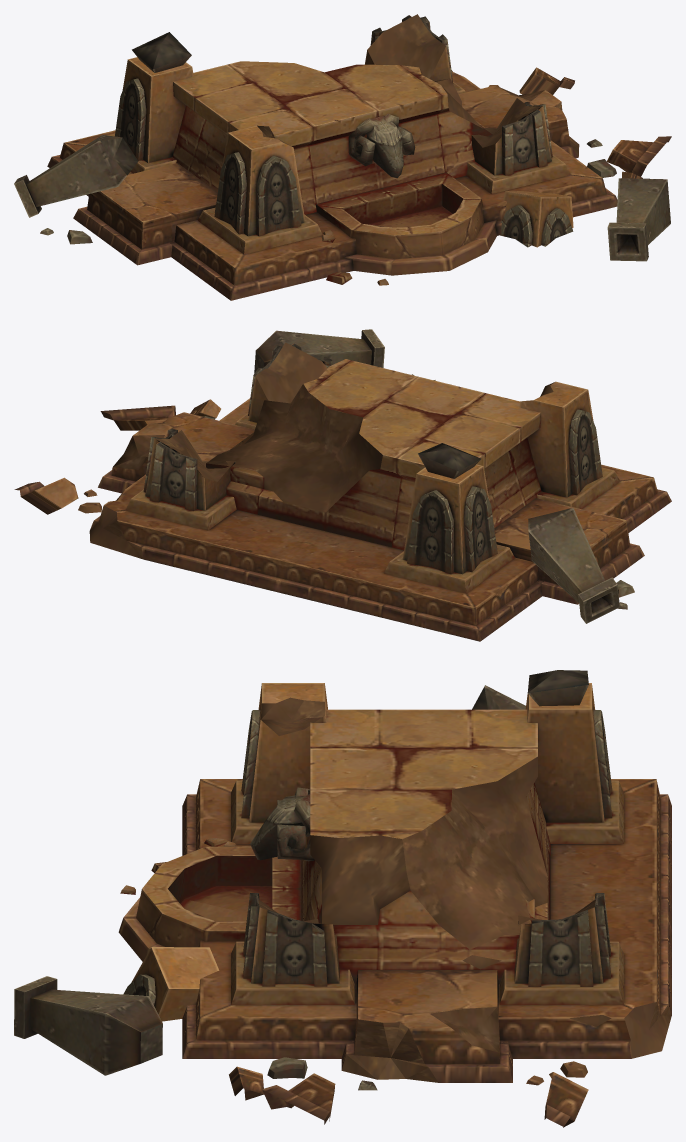
The model's file is shakian_object_altar_02.FBX.
The picture shows the model from 3 angles, top to bottom: view 1: azimuth 30°, elevation 25°; view 2: azimuth 150°, elevation 25°; view 3: azimuth 270°, elevation 25°; orthographic projection. The views are drawn at different scales.
Visible parts, largest first — view 1: shakian_object_altar_02; view 2: shakian_object_altar_02; view 3: shakian_object_altar_02.
Part boxes in pixels (x1,y1,x2,y2): shakian_object_altar_02: (14,14,671,300); shakian_object_altar_02: (14,329,671,641); shakian_object_altar_02: (14,670,671,1127).
Size of the model in its own units: 10.29 by 2.66 by 7.63.
